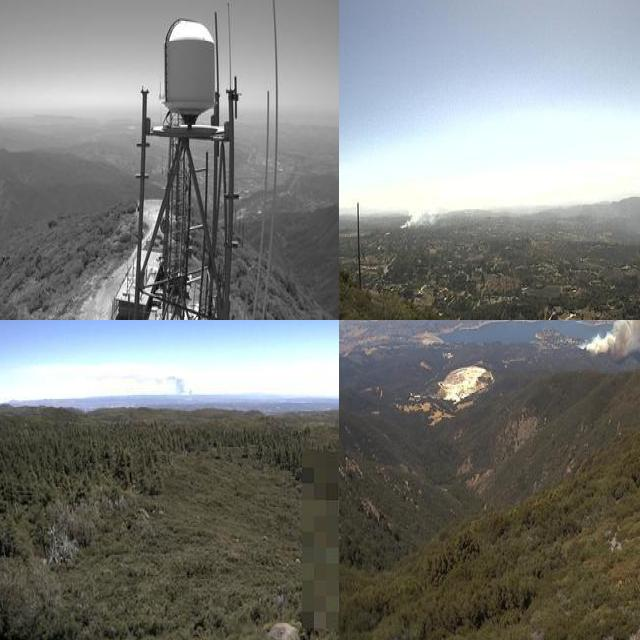smoke: (396, 196, 443, 229), (156, 366, 191, 399)
